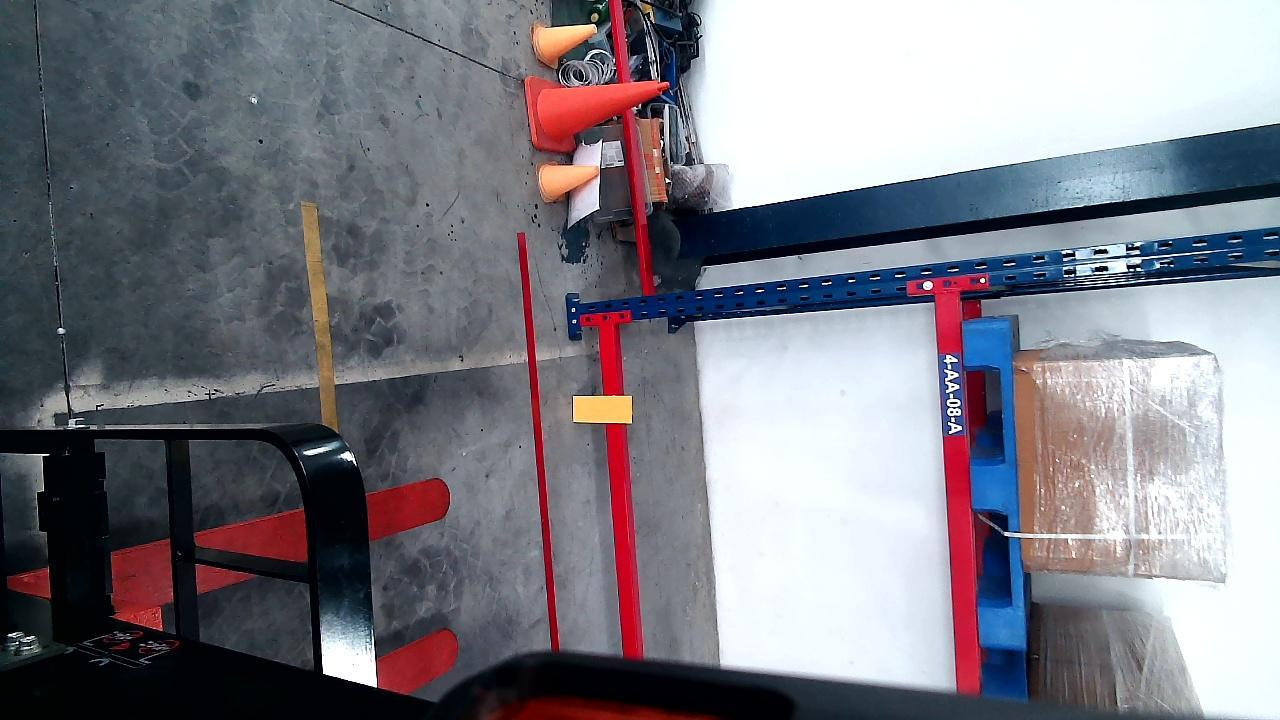red_line: (520, 225, 562, 659)
yellow_line: (302, 196, 339, 436)
